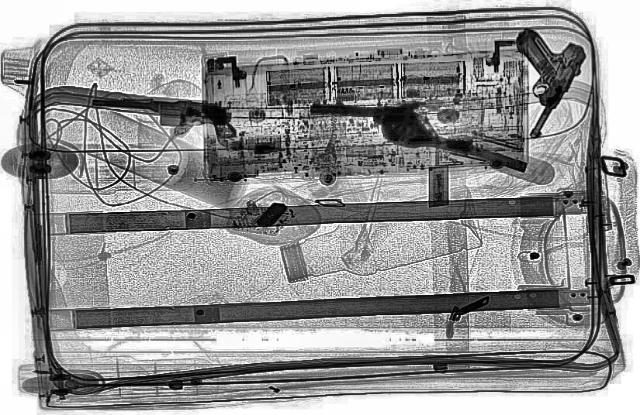Gun: (460, 28, 598, 140), (85, 91, 241, 147), (306, 101, 436, 147)
